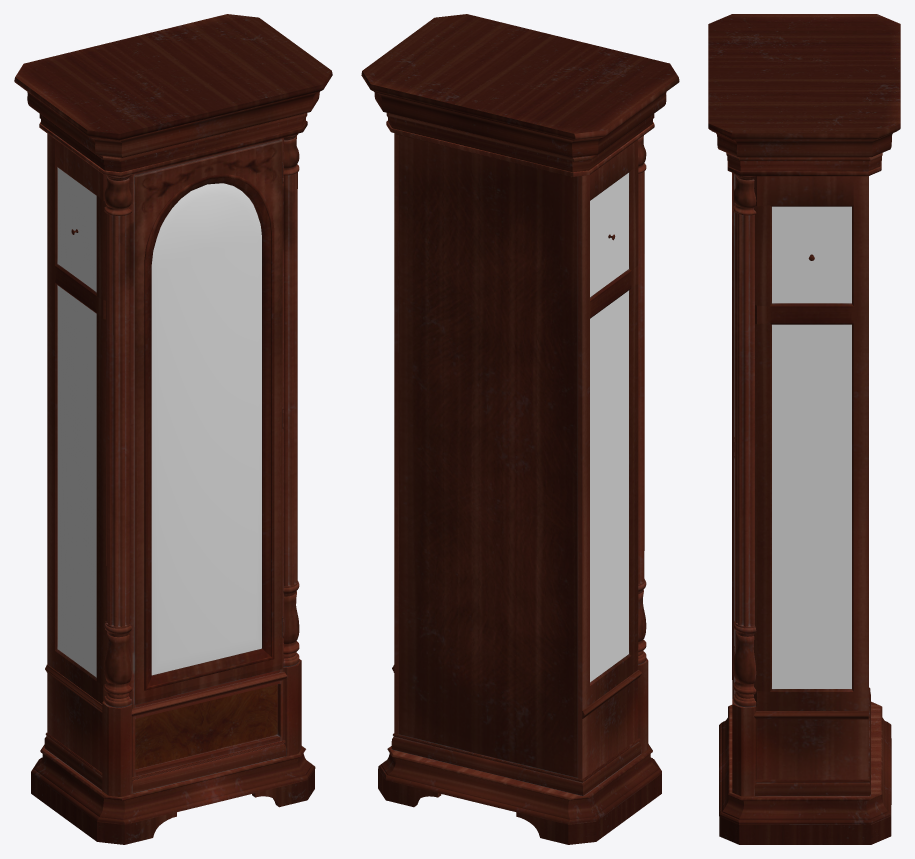
Rendered from wooden clock.fbx.
3 renders of one model, left to right at view 1: azimuth 30°, elevation 25°; view 2: azimuth 150°, elevation 25°; view 3: azimuth 270°, elevation 25°, orthographic.
Visible parts, largest first — view 1: DoorGlass_GR, Top_GR, Door_GR, GrandFatherClockGameRes26_Side2, GrandFatherClockGameRes26_GlassSide2, GrandFatherClockGameRes26_Pillar2, Pillar_GR, BaseFace_GR, GrandFatherClockGameRes26_Base2, GrandFatherClockGameRes26_GlassTop2, Base_GR, GrandFatherClockGameRes26_PillarBase2 (+10 smaller); view 2: Back_GR, Top_GR, GrandFatherClockGameRes26_Side2, GrandFatherClockGameRes26_GlassSide2, GrandFatherClockGameRes26_Base2, GrandFatherClockGameRes26_GlassTop2, GrandFatherClockGameRes26_Pillar2, SkirtingSide_GR, Base_GR, Side_GR, GrandFatherClockGameRes26_Feet2, Foot_GR (+1 smaller); view 3: Side_GR, Top_GR, GlassSide_GR, Pillar_GR, GlassTop_GR, Base_GR, Foot_GR, PillarBase_GR, SkirtingSide_GR, GrandFatherClockGameRes26_Base2, Door_GR, TopStripSide_GR (+1 smaller).
Part boxes in pixels (x1=…): DoorGlass_GR: x1=151, y1=183, x2=261, y2=675; Top_GR: x1=14, y1=14, x2=332, y2=177; Door_GR: x1=134, y1=140, x2=282, y2=705; GrandFatherClockGameRes26_Side2: x1=47, y1=134, x2=135, y2=781; GrandFatherClockGameRes26_GlassSide2: x1=57, y1=285, x2=96, y2=677; GrandFatherClockGameRes26_Pillar2: x1=104, y1=175, x2=131, y2=707; Pillar_GR: x1=283, y1=134, x2=299, y2=666; BaseFace_GR: x1=135, y1=684, x2=277, y2=769; GrandFatherClockGameRes26_Base2: x1=31, y1=744, x2=216, y2=824; GrandFatherClockGameRes26_GlassTop2: x1=57, y1=167, x2=96, y2=291; Base_GR: x1=209, y1=746, x2=315, y2=802; GrandFatherClockGameRes26_PillarBase2: x1=102, y1=701, x2=132, y2=796; Back_GR: x1=399, y1=135, x2=577, y2=778; Top_GR: x1=361, y1=14, x2=679, y2=177; GrandFatherClockGameRes26_Side2: x1=577, y1=140, x2=638, y2=779; GrandFatherClockGameRes26_GlassSide2: x1=590, y1=290, x2=628, y2=682; GrandFatherClockGameRes26_Base2: x1=477, y1=744, x2=661, y2=824; GrandFatherClockGameRes26_GlassTop2: x1=590, y1=173, x2=628, y2=296; GrandFatherClockGameRes26_Pillar2: x1=638, y1=135, x2=646, y2=664; SkirtingSide_GR: x1=391, y1=736, x2=641, y2=795; Base_GR: x1=378, y1=746, x2=486, y2=802; Side_GR: x1=394, y1=133, x2=398, y2=734; GrandFatherClockGameRes26_Feet2: x1=516, y1=774, x2=661, y2=844; Foot_GR: x1=378, y1=769, x2=441, y2=807; Side_GR: x1=735, y1=175, x2=868, y2=779; Top_GR: x1=708, y1=14, x2=900, y2=176; GlassSide_GR: x1=772, y1=324, x2=851, y2=688; Pillar_GR: x1=733, y1=173, x2=756, y2=707; GlassTop_GR: x1=772, y1=206, x2=851, y2=303; Base_GR: x1=719, y1=749, x2=891, y2=824; Foot_GR: x1=719, y1=816, x2=891, y2=844; PillarBase_GR: x1=732, y1=699, x2=756, y2=796; SkirtingSide_GR: x1=754, y1=692, x2=870, y2=796; GrandFatherClockGameRes26_Base2: x1=719, y1=701, x2=891, y2=769; Door_GR: x1=732, y1=172, x2=735, y2=694; TopStripSide_GR: x1=754, y1=711, x2=868, y2=719.
Size of the model in its own units: 2157 by 6030 by 1464.
2 materials, 2 textured.
